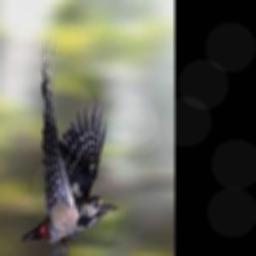Woodpecker: (21, 38, 118, 256)
